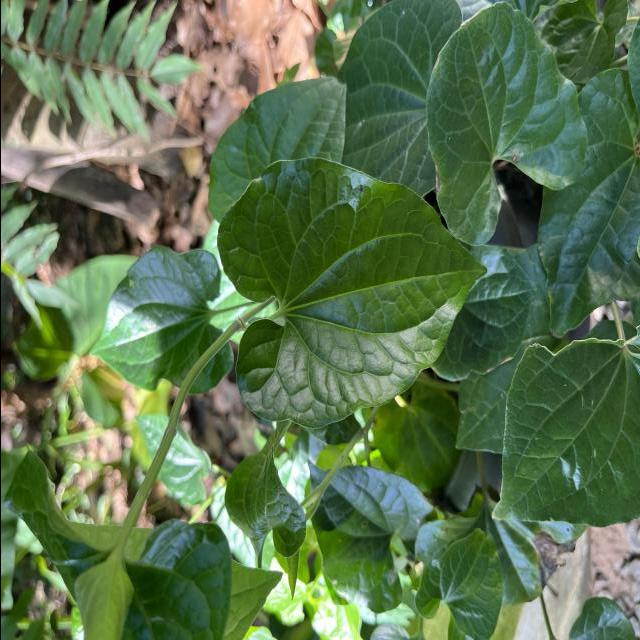Piper longum: (214, 156, 488, 431)
